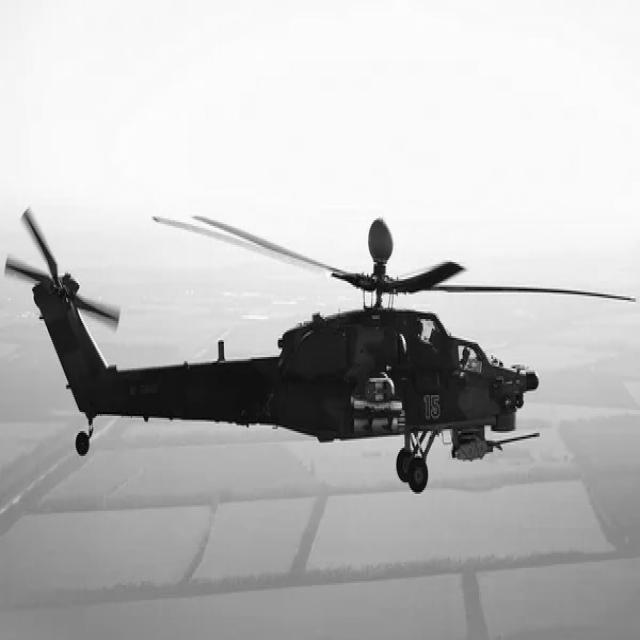Helicopter: (4, 209, 636, 495)
